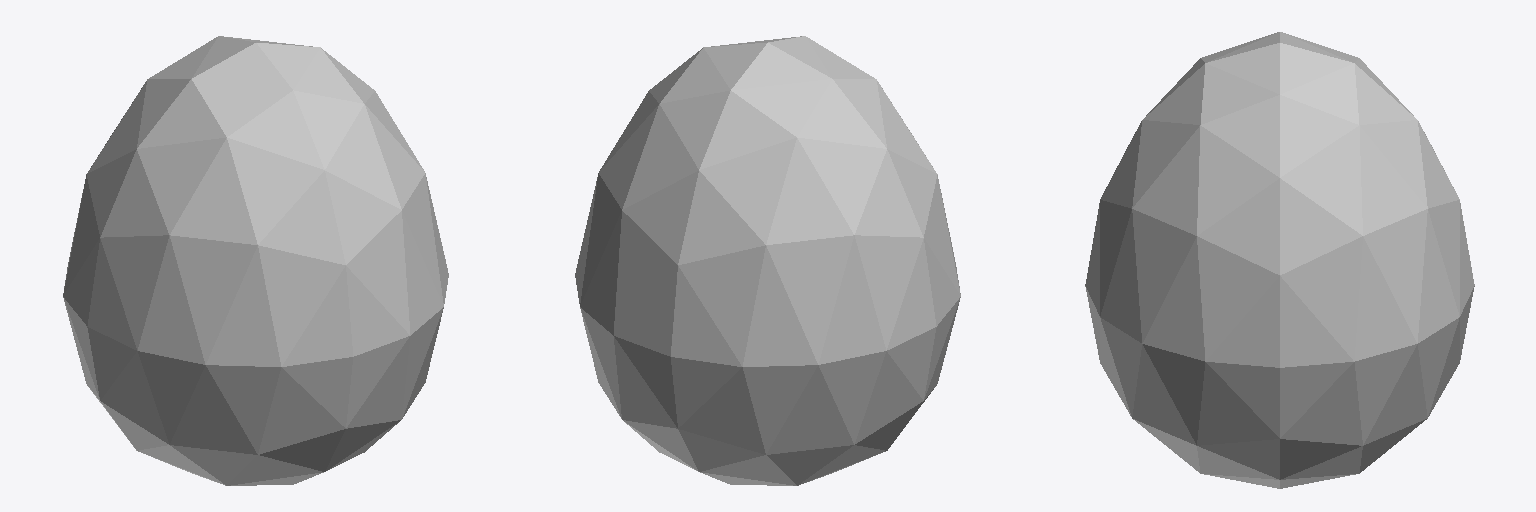
File: Huevo2.obj
3 views of the same model, side by side, from view 1: azimuth 30°, elevation 25°; view 2: azimuth 150°, elevation 25°; view 3: azimuth 270°, elevation 25° (orthographic).
Visible parts, largest first — view 1: hypercasual_prop011; view 2: hypercasual_prop011; view 3: hypercasual_prop011.
Part boxes in pixels (bbox=[...]): hypercasual_prop011: bbox=[63, 36, 448, 485]; hypercasual_prop011: bbox=[575, 36, 960, 485]; hypercasual_prop011: bbox=[1085, 32, 1474, 488].
Bounding box in the file's own units: 0.4885 × 0.5909 × 0.4885.